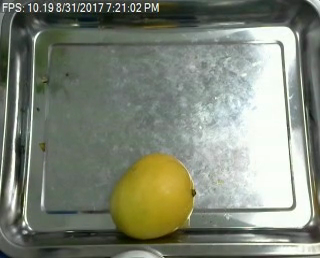Mango: (108, 156, 193, 240)
